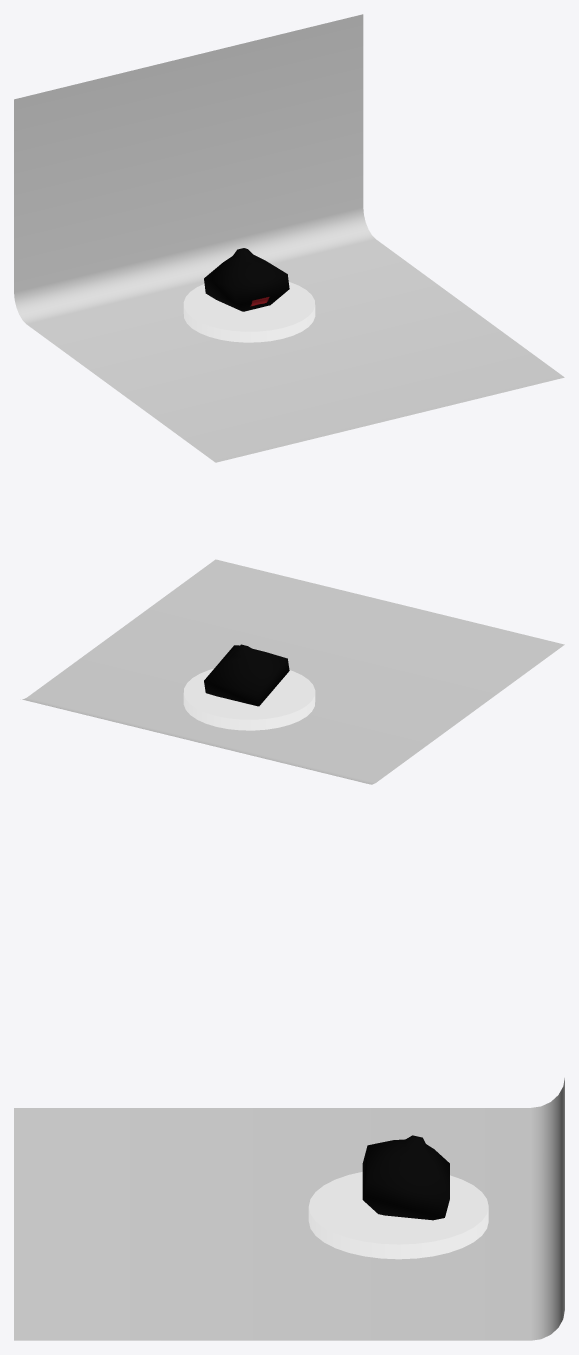
File: gakky.glb
3 views of the same model, one above another, from view 1: azimuth 30°, elevation 25°; view 2: azimuth 150°, elevation 25°; view 3: azimuth 270°, elevation 25° (orthographic). The views are drawn at different scales.
Parts seen in each view (by area): view 1: 平面, 円柱, Gakky; view 2: 平面, 円柱, Gakky; view 3: 平面, 円柱, Gakky.
Boxes of the visible parts, x1,y1,x2,y2 form: 平面: [14, 14, 564, 462]; 円柱: [183, 282, 315, 342]; Gakky: [204, 248, 289, 311]; 平面: [22, 559, 564, 784]; 円柱: [183, 669, 315, 730]; Gakky: [204, 644, 289, 706]; 平面: [14, 1078, 564, 1340]; 円柱: [308, 1172, 488, 1259]; Gakky: [362, 1135, 449, 1220].
Size of the model in its own units: 26 by 15.35 by 26.
2 materials, 1 textured.
